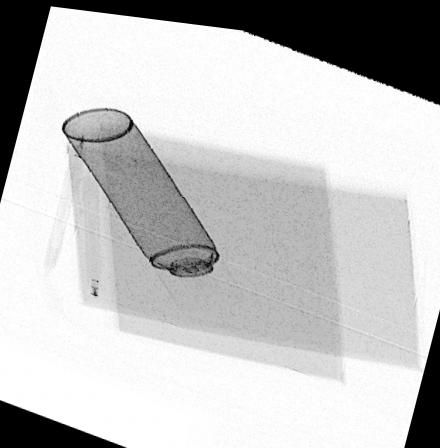Sprayer: (60, 104, 244, 301)
